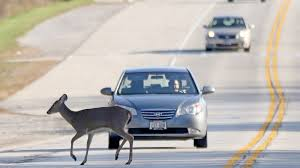deer: (46, 94, 136, 165)
